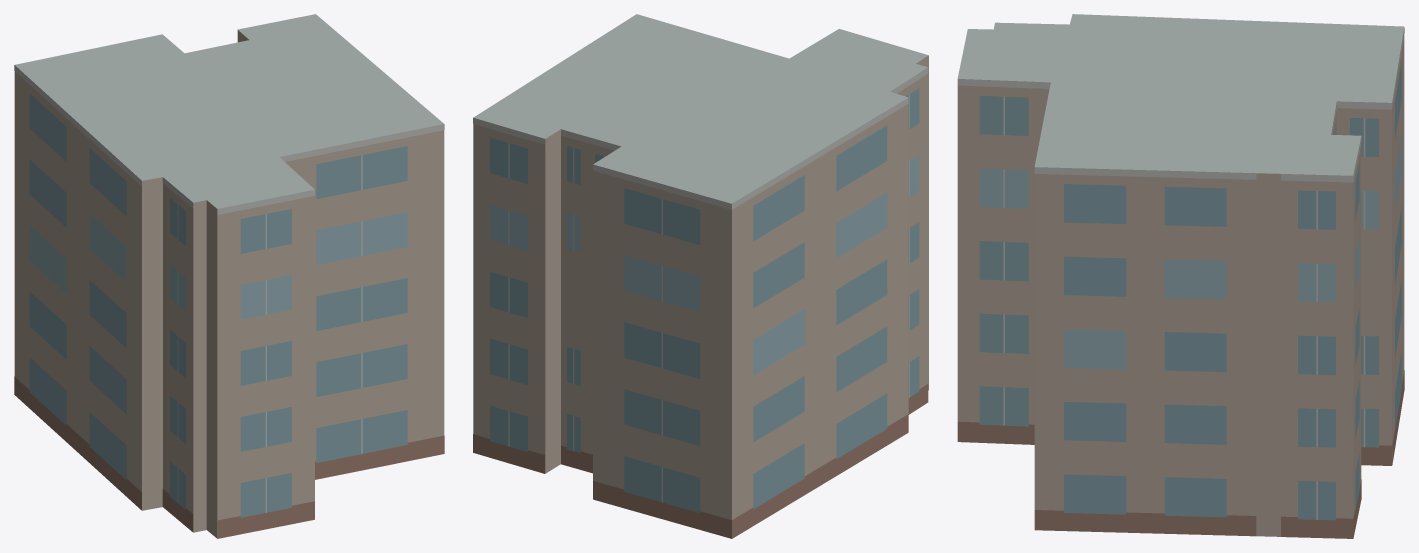
The model's file is survey-upis-33039906.glb.
The picture shows the model from 3 angles, left to right: view 1: azimuth 30°, elevation 25°; view 2: azimuth 150°, elevation 25°; view 3: azimuth 270°, elevation 25°; orthographic projection. The views are drawn at different scales.
Parts seen in each view (by area): view 1: survey-upis-33039906.tmp; view 2: survey-upis-33039906.tmp; view 3: survey-upis-33039906.tmp.
Part boxes in pixels (x1,y1,x2,y2): survey-upis-33039906.tmp: [14, 14, 444, 538]; survey-upis-33039906.tmp: [473, 14, 928, 538]; survey-upis-33039906.tmp: [957, 14, 1404, 538].
Size of the model in its own units: 12.68 by 13.26 by 14.8.
